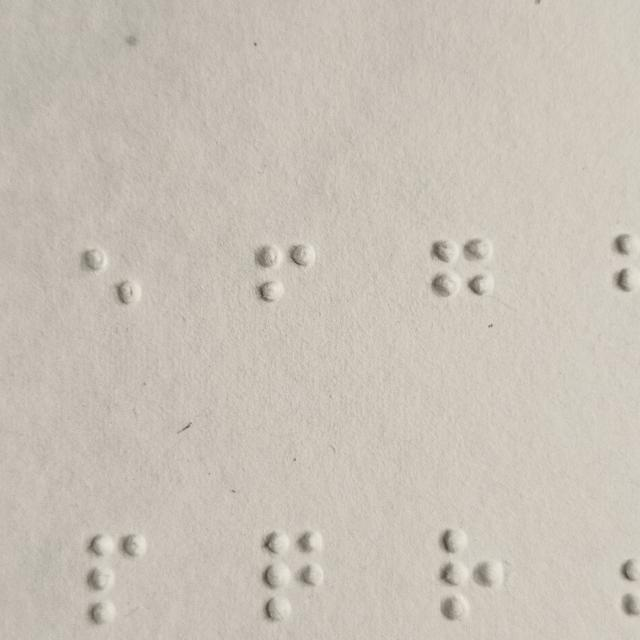e: (82, 243, 145, 336)
f: (253, 238, 315, 331)
g: (431, 236, 493, 328)
p: (89, 533, 151, 625)
q: (264, 531, 326, 623)
r: (440, 527, 502, 619)
